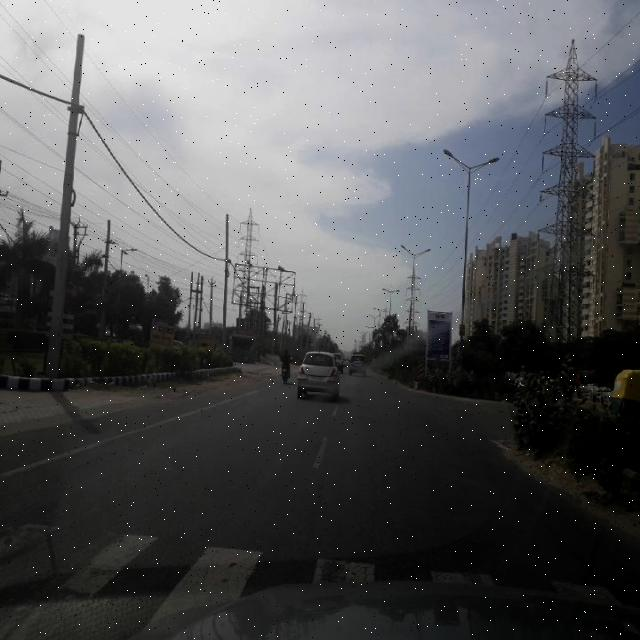D20: (33, 414, 594, 574)
D43: (0, 524, 619, 632)
